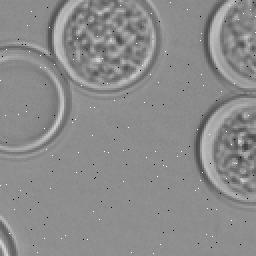picoshell: (50, 0, 162, 98), (2, 42, 74, 158), (198, 94, 256, 208), (206, 0, 256, 90), (0, 216, 19, 256)
